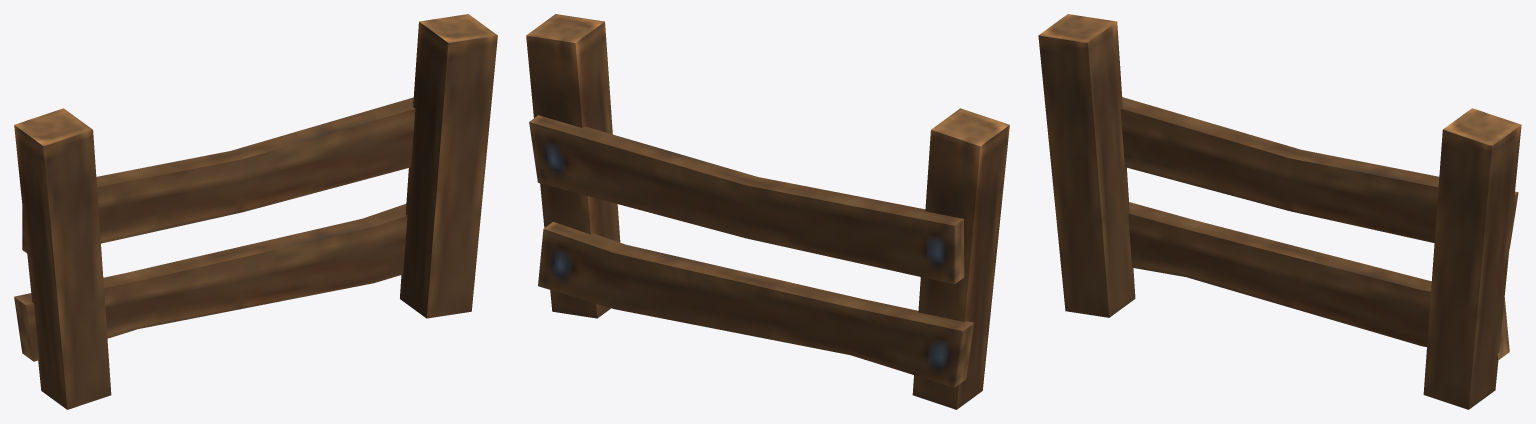
Rendered from b_fence_3.FBX.
3 views of the same model, side by side, from view 1: azimuth 30°, elevation 25°; view 2: azimuth 150°, elevation 25°; view 3: azimuth 330°, elevation 25° (orthographic).
Parts seen in each view (by area): view 1: Box007; view 2: Box007; view 3: Box007.
Part boxes in pixels (box(x1,y1,x2,y2)): Box007: box(14, 14, 497, 409); Box007: box(526, 14, 1009, 409); Box007: box(1038, 14, 1521, 409).
Size of the model in its own units: 41.27 by 6.03 by 23.92.
